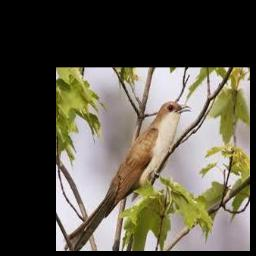Cuckoo: (63, 101, 192, 251)
